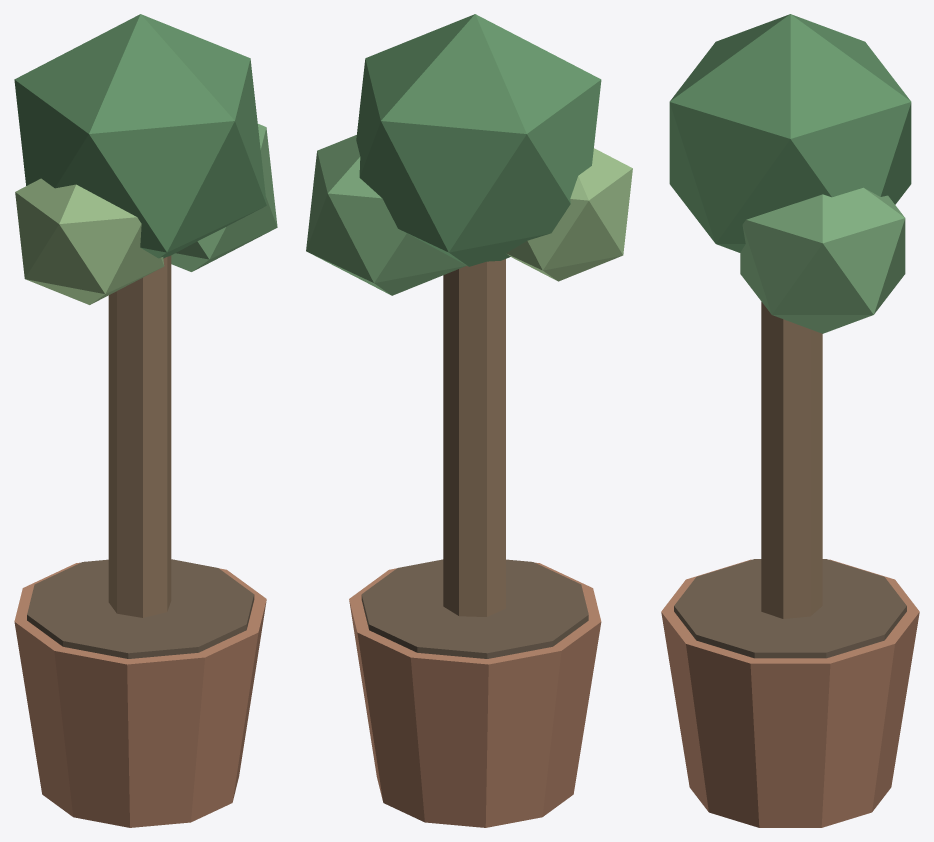
Rendered from pla_canto_alto.glb.
The picture shows the model from 3 angles, left to right: view 1: azimuth 30°, elevation 25°; view 2: azimuth 150°, elevation 25°; view 3: azimuth 270°, elevation 25°; orthographic projection.
Parts seen in each view (by area): view 1: PLA_CANTO_ALTO_v01; view 2: PLA_CANTO_ALTO_v01; view 3: PLA_CANTO_ALTO_v01.
Part boxes in pixels (x1,y1,x2,y2): PLA_CANTO_ALTO_v01: (14,14,277,827); PLA_CANTO_ALTO_v01: (306,14,632,827); PLA_CANTO_ALTO_v01: (661,14,919,827).
Size of the model in its own units: 0.4904 by 1.32 by 0.4.
